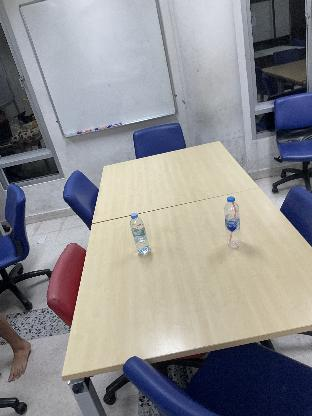Plastic Bottle: (224, 196, 242, 248), (130, 212, 150, 258)
